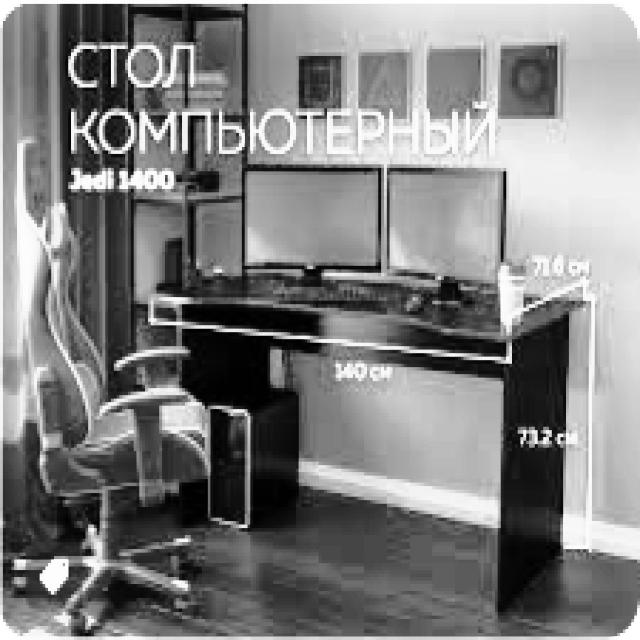book: (10, 140, 207, 627)
table: (133, 273, 594, 612)
